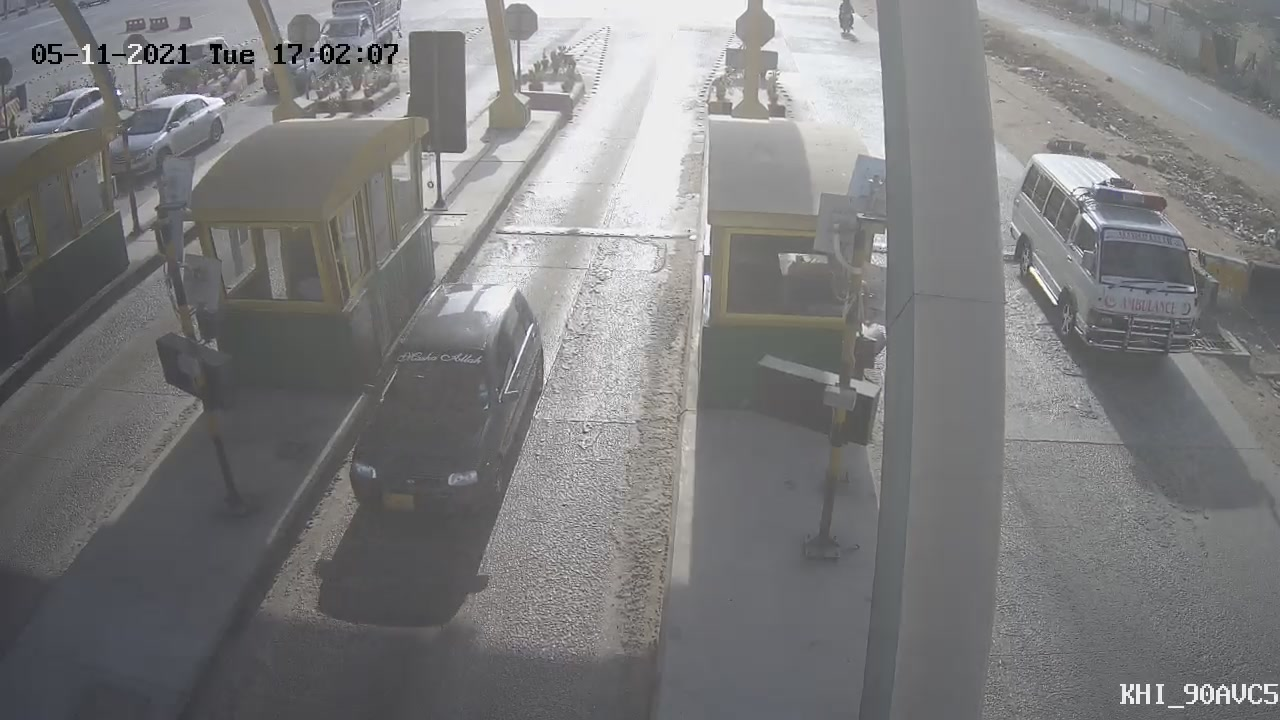F1: (322, 264, 569, 544)
